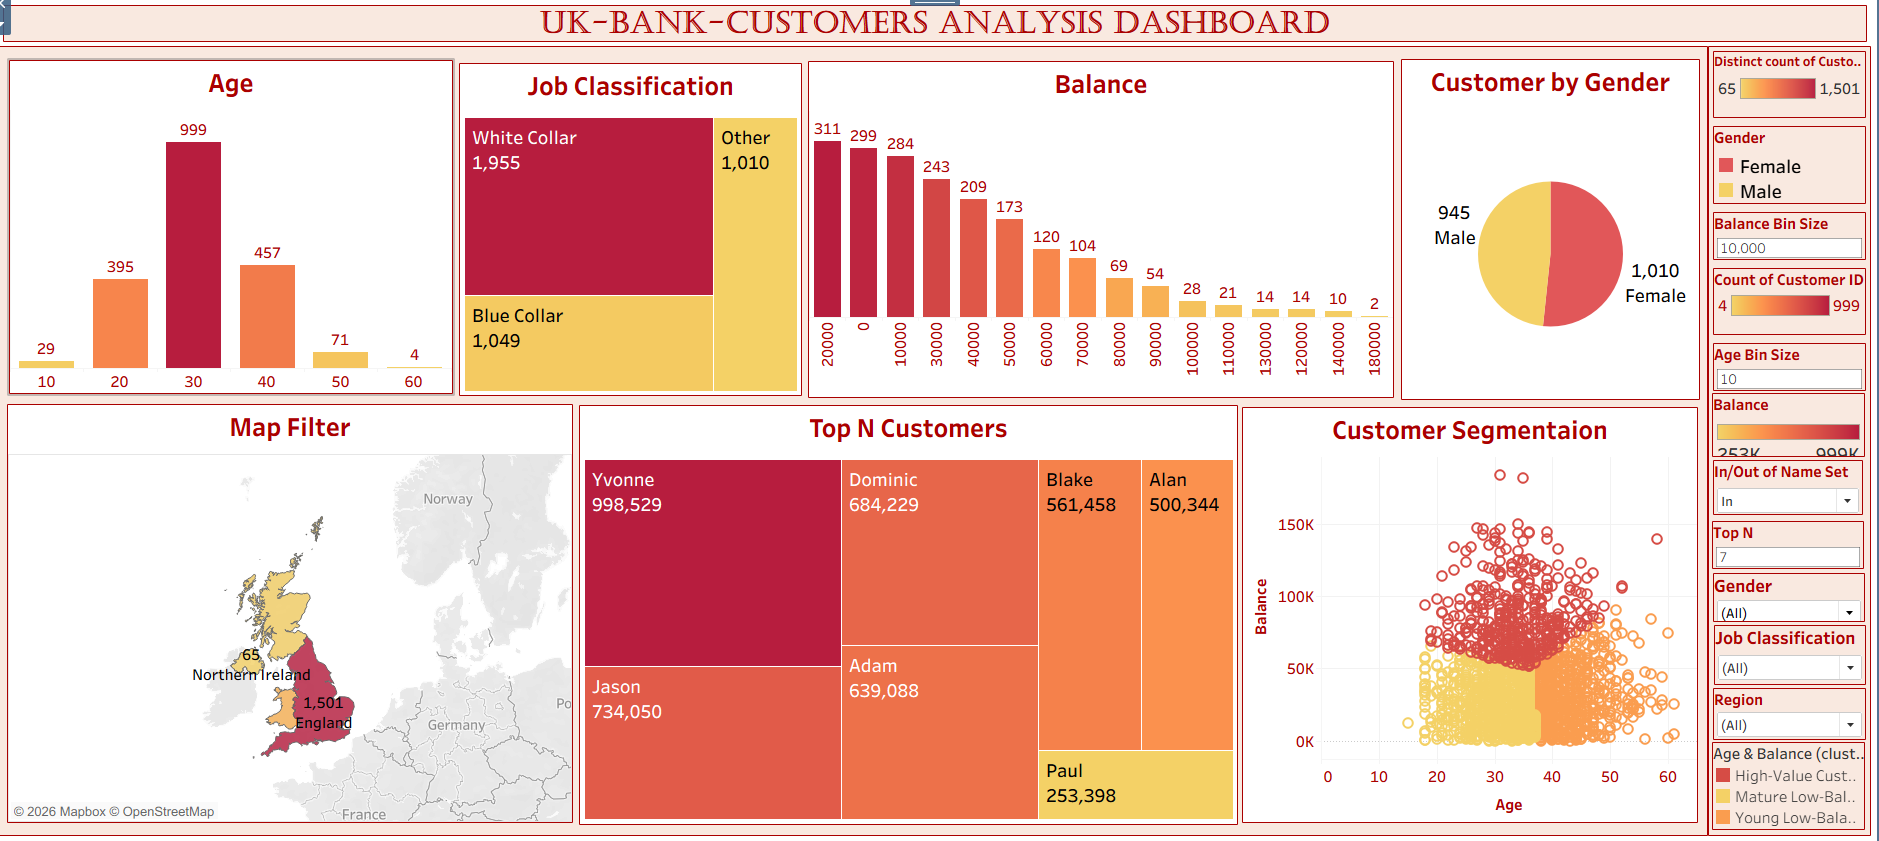

The page's visual inventory and layout, read from the dashboard file:
{"tool":"tableau","page":{"name":"UK-Bank-Customers","canvas":[1000,1000],"units":"permille","ordinal":0},"visuals":[{"type":"title","box":[4.2,9.4,991.5,52.9]},{"type":"legend","title":"Map Filter","param":"[federated.1qqz2jt0s8iqc11gzqf9y0lzszub].[ctd:Customer ID:qk]","box":[910,63.5,85.3,88.1]},{"type":"worksheet","title":"Customer by Gender","mark":"Pie","box":[746.8,77.6,158.4,400.7]},{"type":"worksheet","title":"Age","mark":"Automatic","rows":["Customer ID"],"cols":["Age (bin)"],"box":[9.5,78.7,235.2,392.5]},{"type":"worksheet","title":"Balance","mark":"Automatic","rows":["Customer ID"],"cols":["Balance (bin)"],"box":[432.7,79.9,310.4,396]},{"type":"worksheet","title":"Job Classification","mark":"Automatic","box":[247.9,82.3,181.7,391.3]},{"type":"legend","title":"Customer by Gender","param":"[federated.1qqz2jt0s8iqc11gzqf9y0lzszub].[none:Gender:nk]","box":[910,151.6,85.3,101.1]},{"type":"parameter","param":"[Parameters].[Parameter 2]","box":[910,252.7,85.3,65.8]},{"type":"legend","title":"Age","param":"[federated.1qqz2jt0s8iqc11gzqf9y0lzszub].[cnt:Customer ID:qk]","box":[910,318.4,85.3,88.1]},{"type":"parameter","param":"[Parameters].[Parameter 1]","box":[910,406.6,85.3,65.8]},{"type":"legend","title":"Top N Customers","param":"[federated.1qqz2jt0s8iqc11gzqf9y0lzszub].[sum:Balance:qk]","box":[911.6,470,81,75.2]},{"type":"worksheet","title":"Map Filter","mark":"Multipolygon","box":[8.5,483,299.8,492.4]},{"type":"worksheet","title":"Top N Customers","mark":"Automatic","box":[311.4,484.1,349.1,493.5]},{"type":"worksheet","title":"Customer Segmentaion","mark":"Automatic","rows":["Balance"],"cols":["Age"],"box":[662.6,486.5,241.5,488.8]},{"type":"filter","title":"Top N Customers","param":"[federated.1qqz2jt0s8iqc11gzqf9y0lzszub].[io:Name Set:nk]","box":[912.1,548.8,79.5,64.6]},{"type":"parameter","param":"[Parameters].[Parameter 3]","box":[911.6,620.5,80.5,56.4]},{"type":"filter","title":"Customer by Gender","param":"[federated.1qqz2jt0s8iqc11gzqf9y0lzszub].[none:Gender:nk]","box":[912.1,681.6,80.5,57.6]},{"type":"filter","title":"Job Classification","param":"[federated.1qqz2jt0s8iqc11gzqf9y0lzszub].[none:Job Classification:nk]","box":[912.6,742.7,80.5,70.5]},{"type":"filter","title":"Map Filter","param":"[federated.1qqz2jt0s8iqc11gzqf9y0lzszub].[none:Region:nk]","box":[912.1,816.7,81,61.1]},{"type":"legend","title":"Customer Segmentaion","param":"[federated.1qqz2jt0s8iqc11gzqf9y0lzszub].[Age & Balance (clusters)]","box":[911.6,880.1,81,103.4]}]}

Visuals, with their boxes on the dashboard's canvas, which has no fixed pixel size, in thousandths of its width and height (x1, y1, x2, y2). These are canvas units, not pixel positions in the 1879x841 screenshot, which may show the page scaled, cropped or inside an application window:
title: <box>4,9,996,62</box>
"Map Filter" legend: <box>910,64,995,152</box>
"Customer by Gender" worksheet (Pie marks): <box>747,78,905,478</box>
"Age" worksheet: <box>10,79,245,471</box>
"Balance" worksheet: <box>433,80,743,476</box>
"Job Classification" worksheet: <box>248,82,430,474</box>
"Customer by Gender" legend: <box>910,152,995,253</box>
parameter: <box>910,253,995,318</box>
"Age" legend: <box>910,318,995,406</box>
parameter: <box>910,407,995,472</box>
"Top N Customers" legend: <box>912,470,993,545</box>
"Map Filter" worksheet (Multipolygon marks): <box>8,483,308,975</box>
"Top N Customers" worksheet: <box>311,484,660,978</box>
"Customer Segmentaion" worksheet: <box>663,486,904,975</box>
"Top N Customers" filter: <box>912,549,992,613</box>
parameter: <box>912,620,992,677</box>
"Customer by Gender" filter: <box>912,682,993,739</box>
"Job Classification" filter: <box>913,743,993,813</box>
"Map Filter" filter: <box>912,817,993,878</box>
"Customer Segmentaion" legend: <box>912,880,993,984</box>
